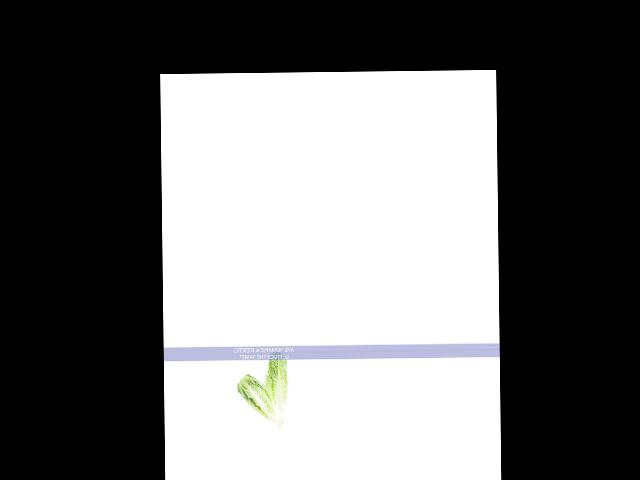lettuce: (239, 370, 283, 435)
